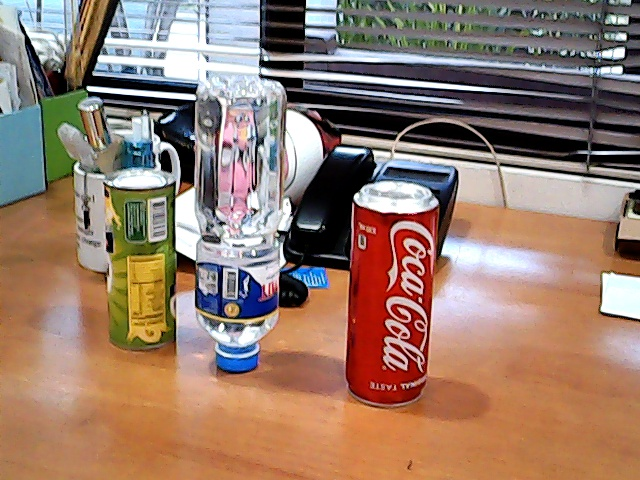Cola: (328, 168, 448, 424)
Pine Juice: (86, 160, 187, 363)
Summit Water: (181, 57, 301, 381)
